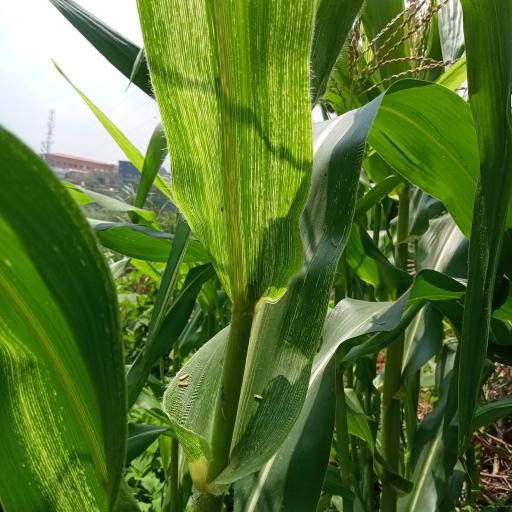Corn_Streak: (132, 0, 318, 286), (0, 135, 138, 511)
